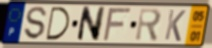D: (45, 6, 71, 42)
F: (101, 7, 133, 43)
K: (163, 8, 187, 43)
N: (75, 6, 107, 43)
R: (134, 7, 163, 43)
S: (24, 6, 49, 42)
